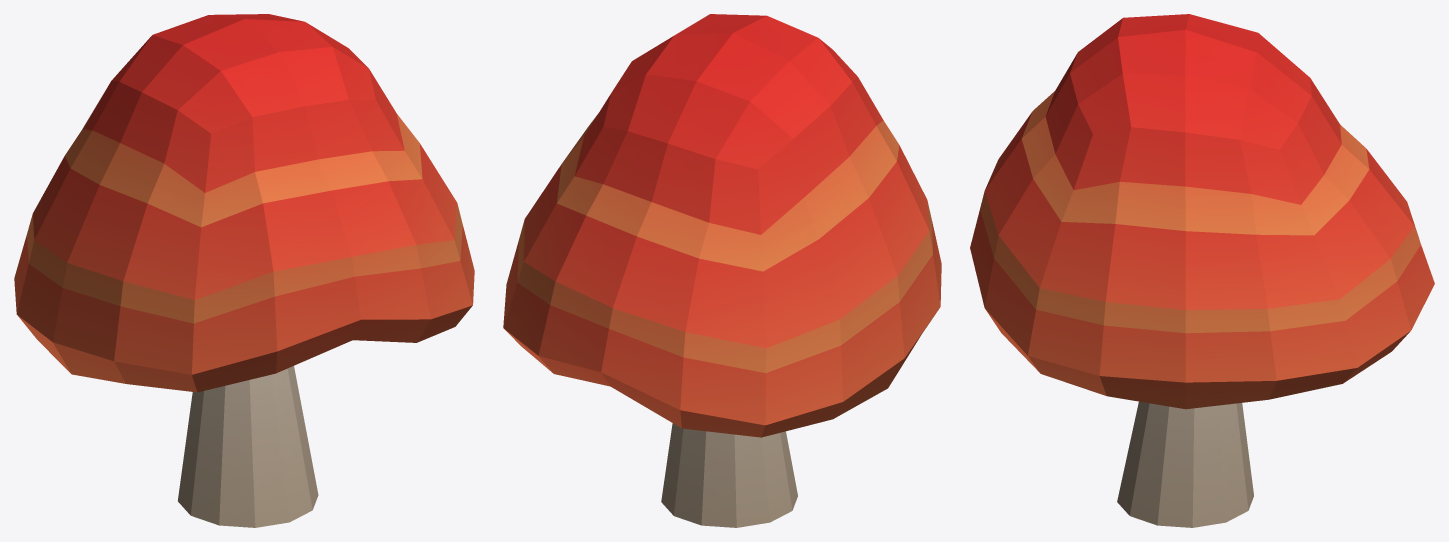
File: Mushroom5.fbx
The picture shows the model from 3 angles, left to right: view 1: azimuth 30°, elevation 25°; view 2: azimuth 150°, elevation 25°; view 3: azimuth 270°, elevation 25°; orthographic projection. The views are drawn at different scales.
Parts seen in each view (by area): view 1: Mushroom5; view 2: Mushroom5; view 3: Mushroom5.
Part boxes in pixels (x1,y1,x2,y2): Mushroom5: (14, 14, 474, 527); Mushroom5: (503, 14, 941, 527); Mushroom5: (970, 14, 1434, 527).
Size of the model in its own units: 19.01 by 22.77 by 20.52.
